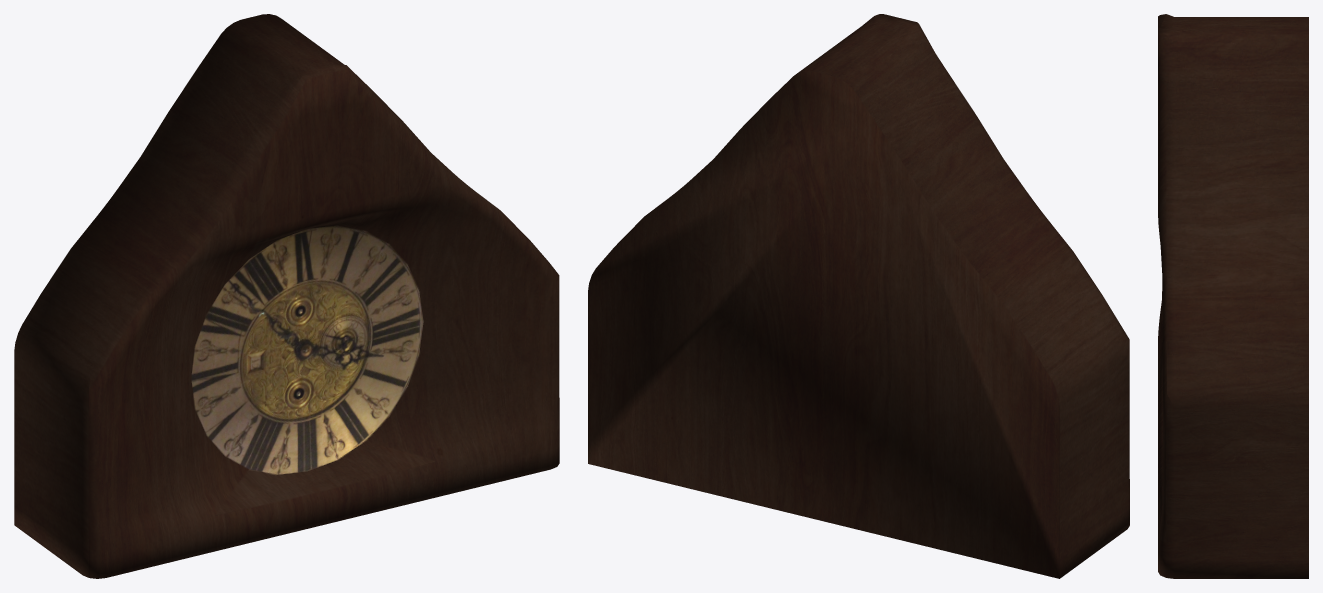
The model's file is Desk_Clock.obj.
The picture shows the model from 3 angles, left to right: view 1: azimuth 30°, elevation 25°; view 2: azimuth 150°, elevation 25°; view 3: azimuth 270°, elevation 25°; orthographic projection. The views are drawn at different scales.
Visible parts, largest first — view 1: Desk_Clock; view 2: Desk_Clock; view 3: Desk_Clock.
Part boxes in pixels (x1,y1,x2,y2): Desk_Clock: (14, 14, 559, 578); Desk_Clock: (588, 14, 1129, 578); Desk_Clock: (1158, 14, 1308, 578).
Bounding box in the file's own units: 0.2208 × 0.2001 × 0.0621.
Materials: 1 (1 with a texture image).
